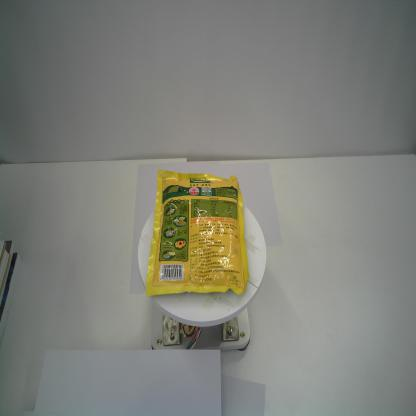Seasoner: (146, 169, 250, 297)
